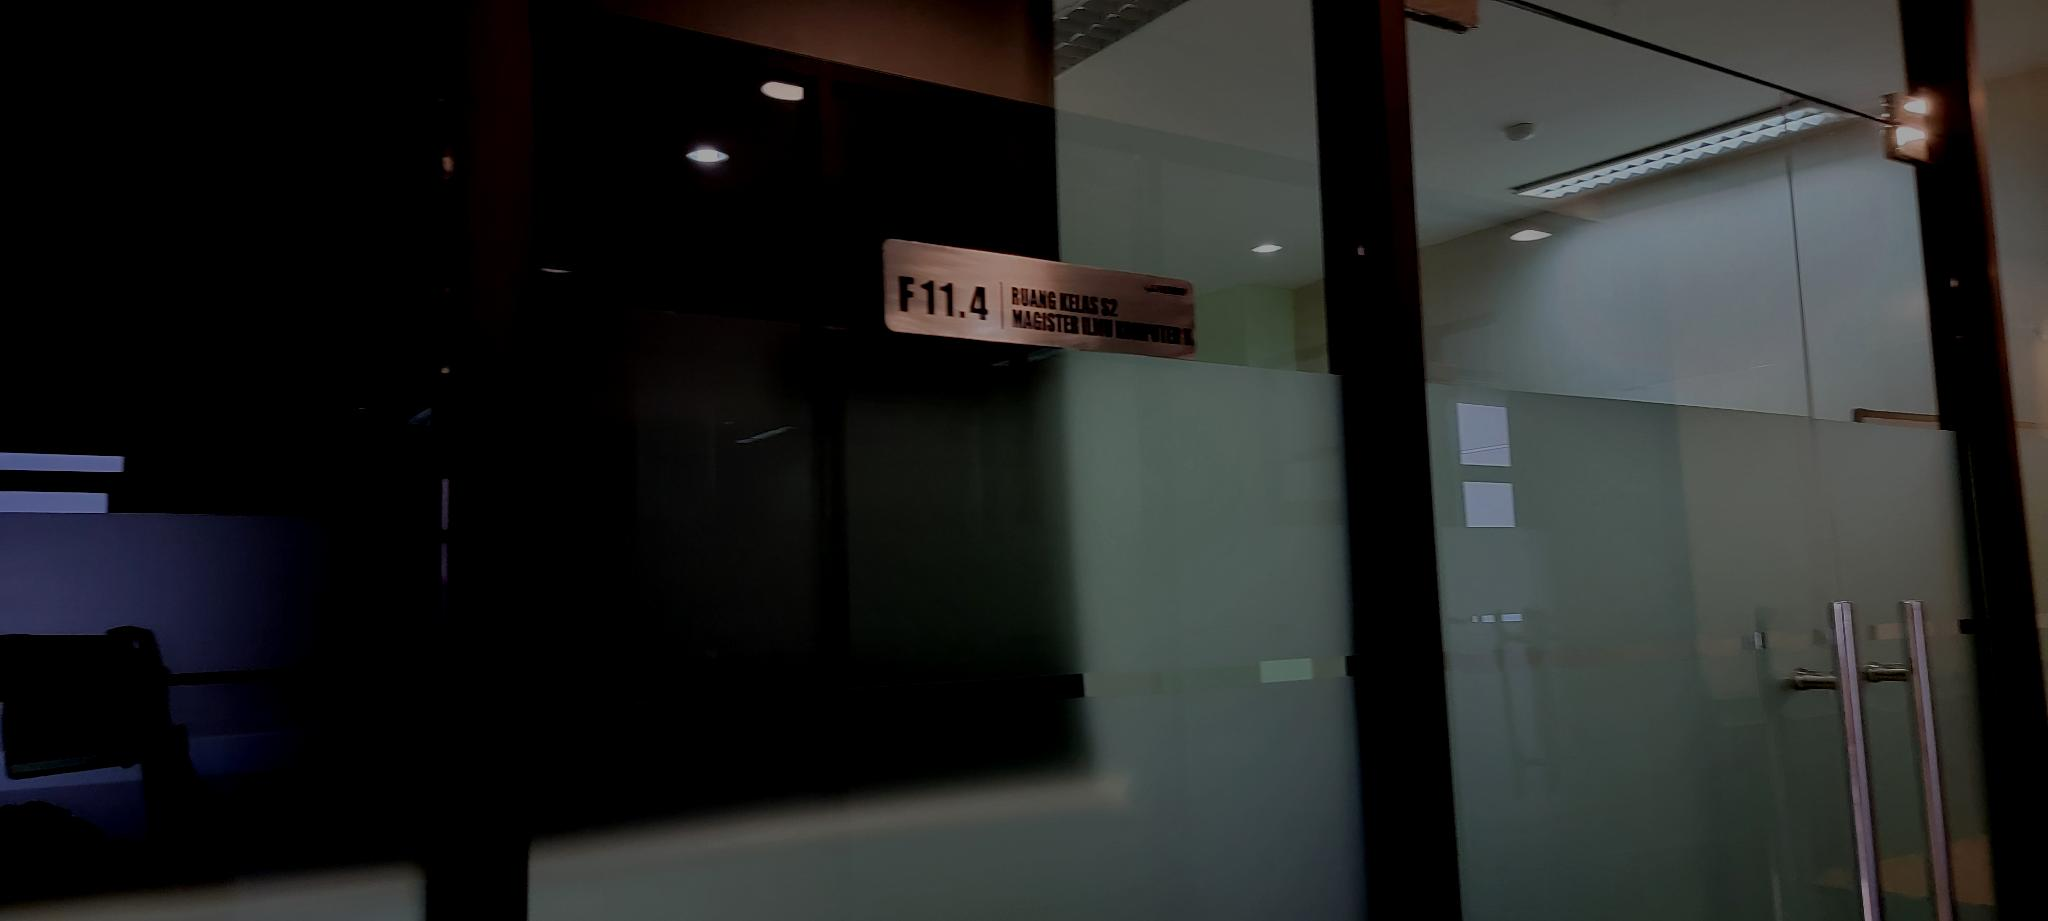plate: (875, 230, 1198, 363)
